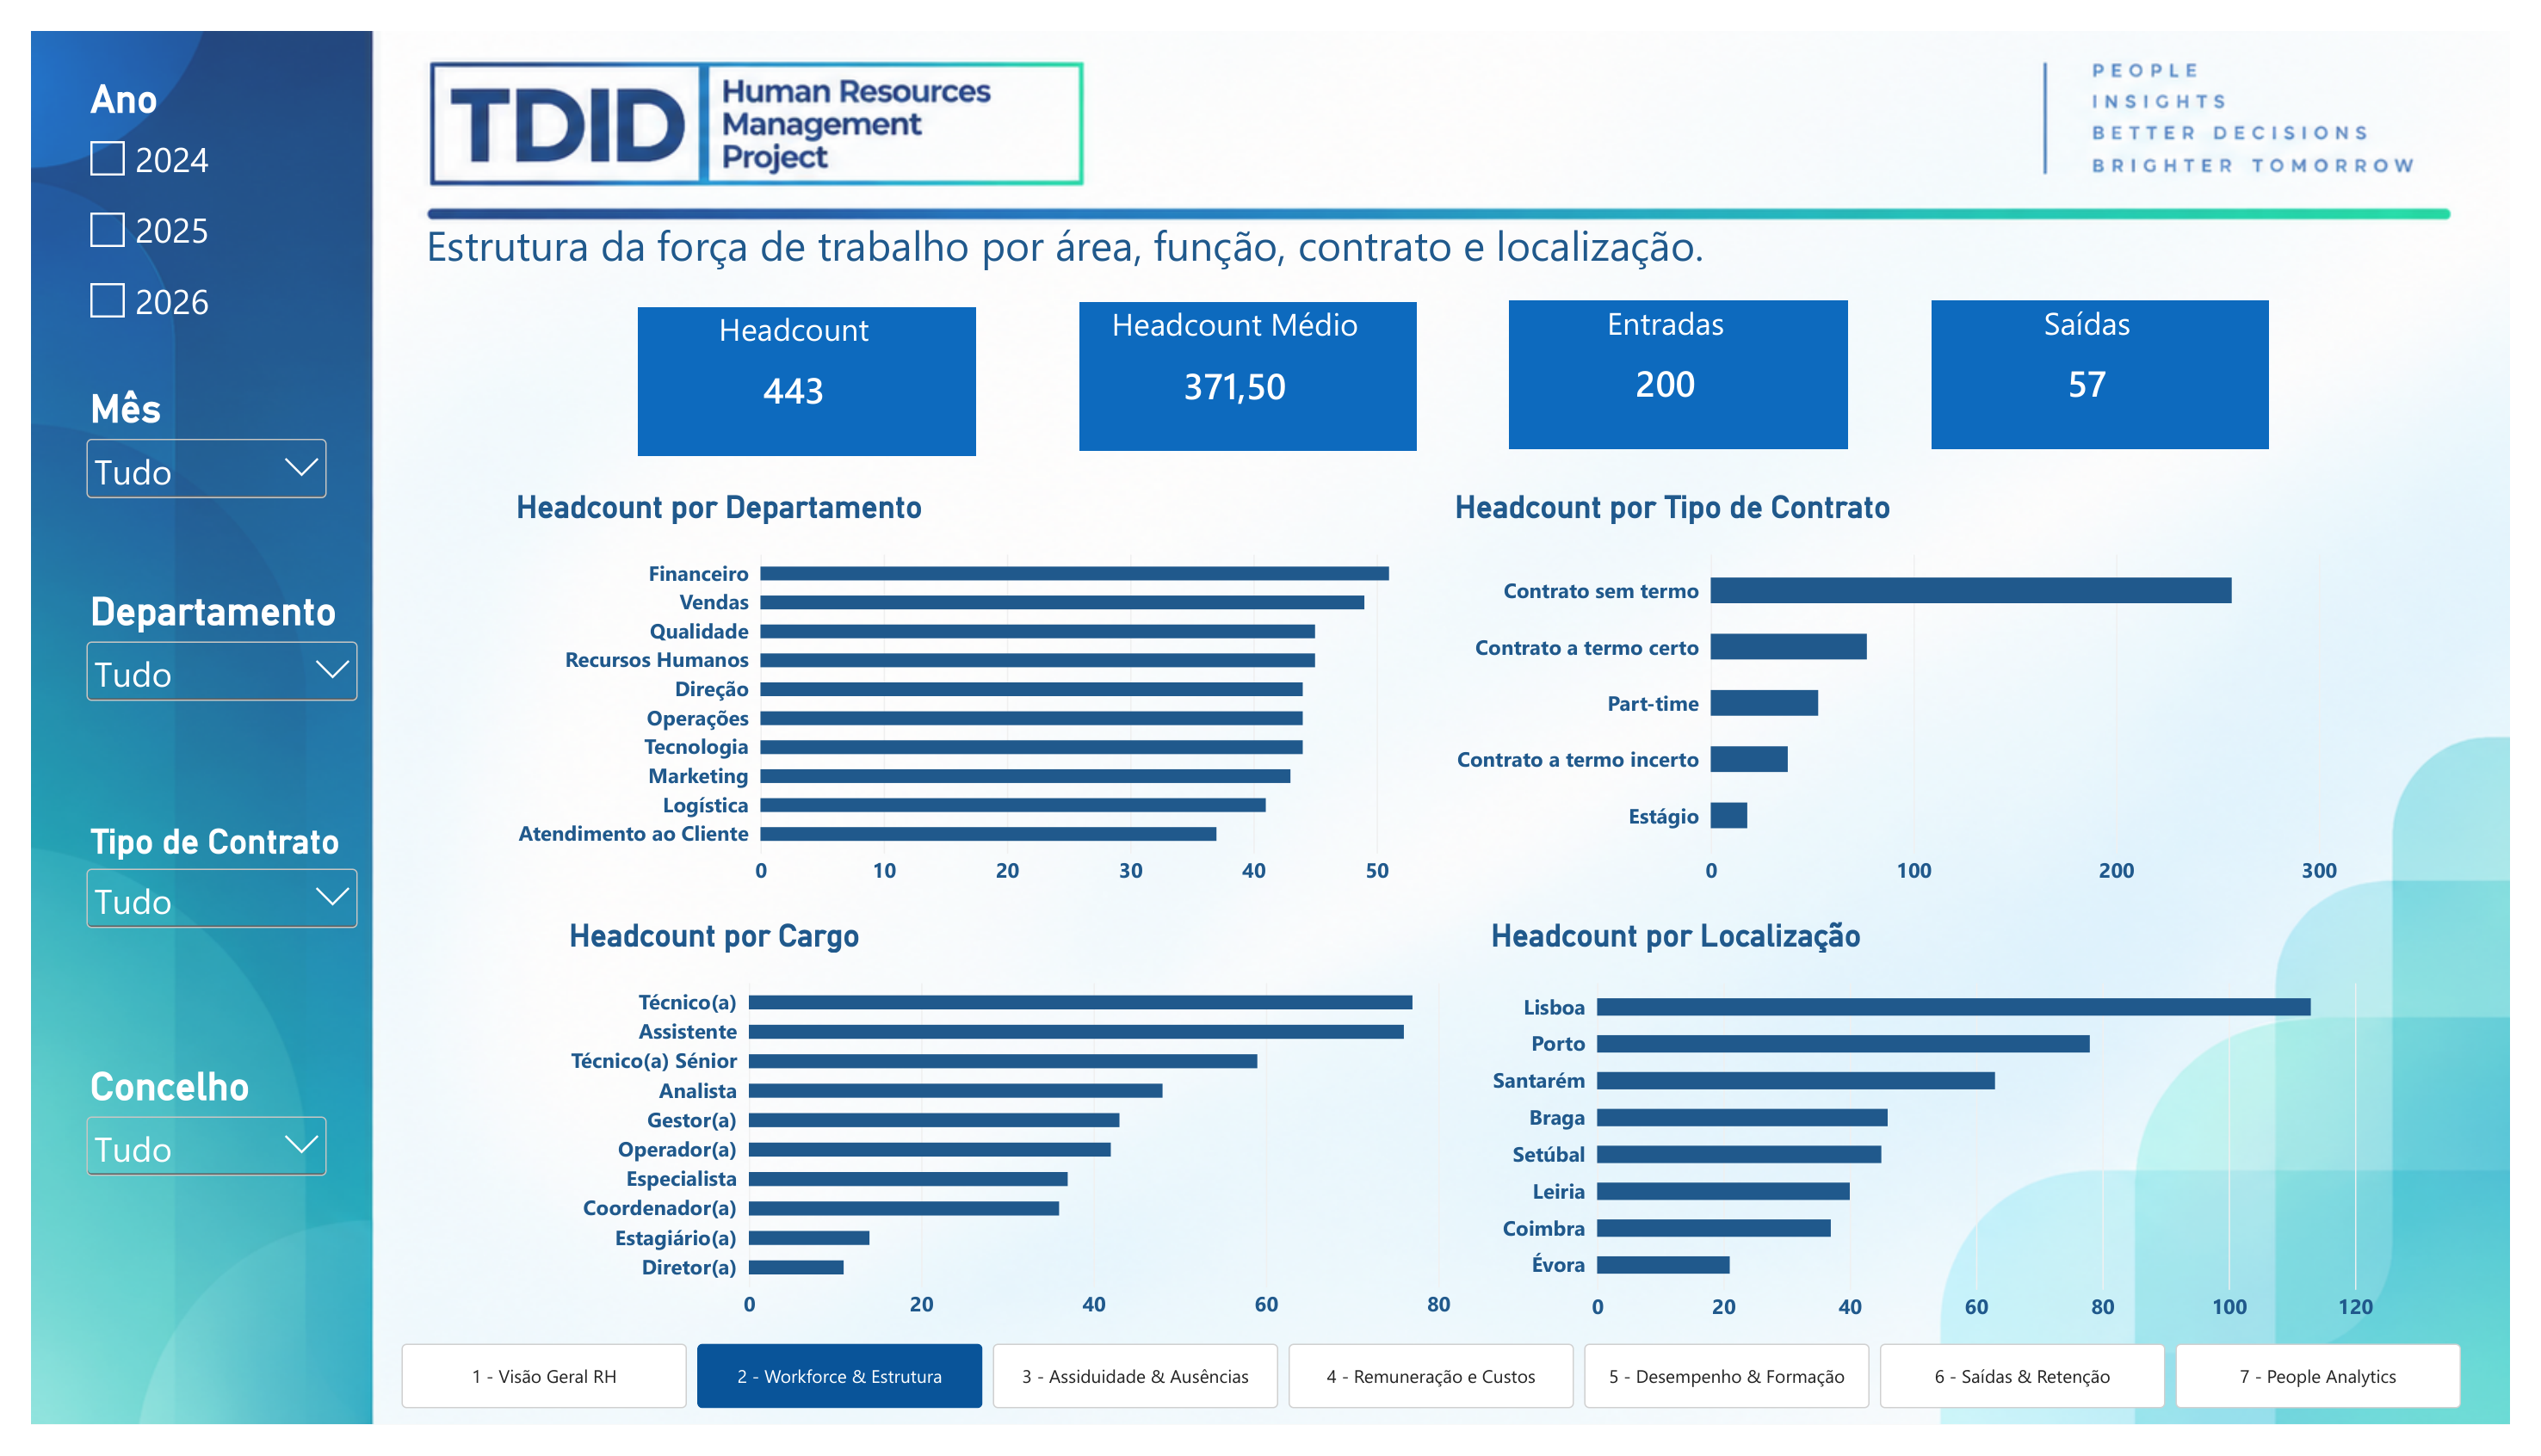

The page's visual inventory and layout, read from the dashboard file:
{"tool":"powerbi","page":{"name":"2 - Workforce & Estrutura","canvas":[1920,1080],"ordinal":2},"visuals":[{"type":"slicer","fields":{"Values":["dCalendario.Ano"]},"box":[38.3,35,195.6,217.1],"z":0},{"type":"slicer","fields":{"Values":["dCalendario.Mes_Nome"]},"box":[38.3,275,195.6,217.1],"z":1000},{"type":"slicer","fields":{"Values":["dDepartamento.Departamento"]},"box":[37.9,432,220.2,108],"z":2000},{"type":"slicer","fields":{"Values":["dTipoContrato.TipoContrato"]},"box":[38.3,611.7,220,216.7],"z":3000},{"type":"slicer","fields":{"Values":["dLocalizacao.Concelho"]},"box":[38.3,800,195.6,217.1],"z":4000},{"type":"shape","title":"Colaboradores Ativos","box":[470,213.7,261.7,115],"z":5000},{"type":"shape","title":"Colaboradores Ativos","box":[1145,208.7,261.7,115],"z":6000},{"type":"shape","title":"Colaboradores Ativos","box":[811.7,210.4,261.7,115],"z":7000},{"type":"shape","title":"Colaboradores Ativos","box":[1471.7,208.7,261.7,115],"z":8000},{"type":"card","fields":{"Values":["_Medidas_RH.Headcount_Fim_Mes"]},"box":[460,203.7,261.7,151.7],"z":9000},{"type":"card","fields":{"Values":["_Medidas_RH.Headcount_Medio_Periodo"]},"box":[801.7,200.4,261.7,151.7],"z":10000},{"type":"card","fields":{"Values":["_Medidas_RH.Entradas"]},"box":[1135,198.7,261.7,151.7],"z":11000},{"type":"card","fields":{"Values":["_Medidas_RH.Saídas"]},"box":[1461.7,198.7,261.7,151.7],"z":12000},{"type":"textbox","box":[460,213.7,261.7,43.3],"z":13000},{"type":"textbox","box":[801.7,210.4,261.7,43.3],"z":14000},{"type":"textbox","box":[1135,208.7,261.7,43.3],"z":15000},{"type":"textbox","box":[1461.7,208.7,261.7,43.3],"z":16000},{"type":"clusteredBarChart","title":"Headcount por Departamento","fields":{"Category":["dDepartamento.Departamento"],"Y":["_Medidas_RH.Headcount_Fim_Mes"]},"box":[360.4,340.8,755.9,340.8],"z":17000},{"type":"clusteredBarChart","title":"Headcount por Tipo de Contrato","fields":{"Category":["dTipoContrato.TipoContrato"],"Y":["_Medidas_RH.Headcount_Fim_Mes"]},"box":[1086.9,340.8,715.3,340.8],"z":18000},{"type":"clusteredBarChart","title":"Headcount por Cargo","fields":{"Category":["dCargo.Cargo"],"Y":["_Medidas_RH.Headcount_Fim_Mes"]},"box":[401.1,673.2,715.3,345],"z":19000},{"type":"clusteredBarChart","title":"Headcount por Localização","fields":{"Category":["dLocalizacao.Concelho"],"Y":["_Medidas_RH.Headcount_Fim_Mes"]},"box":[1115,673.2,715.3,346.4],"z":20000},{"type":"pageNavigator","box":[286.7,1016.7,1600,50],"z":21000},{"type":"textbox","box":[305.7,143.1,1561,120.6],"z":21001}]}

Visuals, with their boxes in screenshot pixels (x1, y1, x2, y2), scaled from the page's 1920x1080 canvas onto the 2541x1456 screenshot:
slicer - dCalendario.Ano: <region>51, 47, 310, 340</region>
slicer - dCalendario.Mes_Nome: <region>51, 371, 310, 663</region>
slicer - dDepartamento.Departamento: <region>50, 583, 342, 728</region>
slicer - dTipoContrato.TipoContrato: <region>51, 824, 342, 1117</region>
slicer - dLocalizacao.Concelho: <region>51, 1078, 310, 1371</region>
"Colaboradores Ativos" shape: <region>622, 288, 968, 443</region>
"Colaboradores Ativos" shape: <region>1515, 281, 1862, 436</region>
"Colaboradores Ativos" shape: <region>1074, 284, 1420, 439</region>
"Colaboradores Ativos" shape: <region>1948, 281, 2294, 436</region>
card - _Medidas_RH.Headcount_Fim_Mes: <region>609, 275, 955, 479</region>
card - _Medidas_RH.Headcount_Medio_Periodo: <region>1061, 270, 1407, 475</region>
card - _Medidas_RH.Entradas: <region>1502, 268, 1848, 472</region>
card - _Medidas_RH.Saídas: <region>1934, 268, 2281, 472</region>
textbox: <region>609, 288, 955, 347</region>
textbox: <region>1061, 284, 1407, 342</region>
textbox: <region>1502, 281, 1848, 340</region>
textbox: <region>1934, 281, 2281, 340</region>
"Headcount por Departamento" clusteredBarChart: <region>477, 460, 1477, 919</region>
"Headcount por Tipo de Contrato" clusteredBarChart: <region>1438, 460, 2385, 919</region>
"Headcount por Cargo" clusteredBarChart: <region>531, 908, 1477, 1373</region>
"Headcount por Localização" clusteredBarChart: <region>1475, 908, 2422, 1374</region>
pageNavigator: <region>380, 1371, 2497, 1438</region>
textbox: <region>405, 193, 2470, 355</region>
